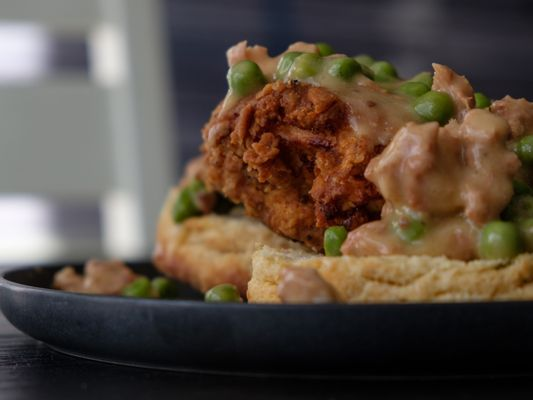soup: (148, 24, 533, 308)
